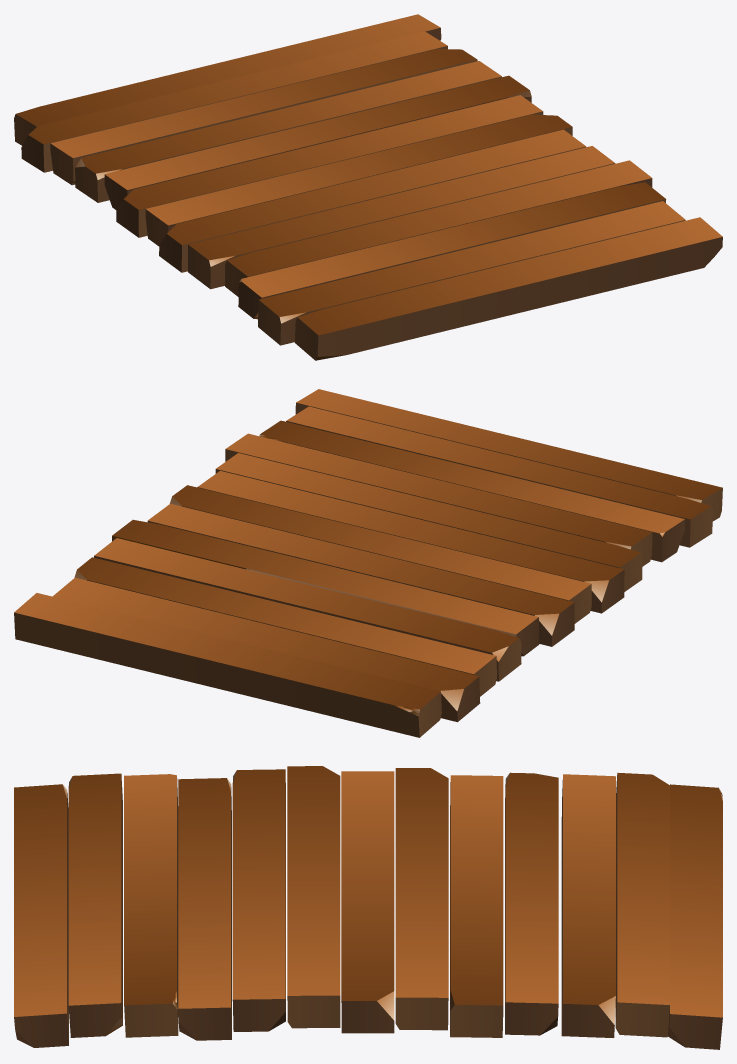
File: SM_HolzBalkenBroken.fbx
The picture shows the model from 3 angles, top to bottom: view 1: azimuth 30°, elevation 25°; view 2: azimuth 150°, elevation 25°; view 3: azimuth 270°, elevation 25°; orthographic projection. The views are drawn at different scales.
Parts seen in each view (by area): view 1: Cube.027, Cube.026, Cube.018, Cube.023, Cube.024, Cube.022, Cube.017, Cube.020, Cube.021, Cube.025, Cube.019, Cube.016 (+1 smaller); view 2: Cube.015, Cube.016, Cube.020, Cube.017, Cube.025, Cube.019, Cube.022, Cube.021, Cube.023, Cube.018, Cube.024, Cube.026 (+1 smaller); view 3: Cube.018, Cube.025, Cube.026, Cube.027, Cube.021, Cube.019, Cube.016, Cube.022, Cube.024, Cube.017, Cube.023, Cube.020 (+1 smaller).
Part boxes in pixels (x1,y1,x2,y2): Cube.027: (294, 217, 722, 360); Cube.026: (258, 201, 685, 345); Cube.018: (238, 182, 666, 319); Cube.023: (188, 146, 615, 289); Cube.024: (225, 160, 652, 296); Cube.022: (159, 129, 586, 272); Cube.017: (116, 95, 543, 237); Cube.020: (75, 61, 501, 202); Cube.021: (145, 114, 572, 246); Cube.025: (50, 49, 477, 185); Cube.019: (104, 75, 531, 210); Cube.016: (21, 31, 447, 172); Cube.015: (14, 593, 441, 737); Cube.016: (52, 577, 480, 722); Cube.020: (94, 538, 521, 681); Cube.017: (147, 503, 574, 646); Cube.025: (74, 557, 496, 696); Cube.019: (112, 519, 539, 656); Cube.022: (197, 470, 624, 613); Cube.021: (169, 485, 591, 623); Cube.023: (215, 453, 642, 591); Cube.018: (259, 420, 684, 562); Cube.024: (225, 433, 652, 566); Cube.026: (286, 406, 712, 547); Cube.018: (124, 774, 178, 1037); Cube.025: (561, 774, 615, 1037); Cube.026: (68, 773, 122, 1037); Cube.027: (14, 784, 68, 1047); Cube.021: (341, 771, 394, 1033); Cube.019: (450, 775, 503, 1037); Cube.016: (615, 772, 669, 1037); Cube.022: (287, 766, 340, 1028); Cube.024: (178, 778, 231, 1040); Cube.017: (395, 768, 448, 1030); Cube.023: (232, 769, 285, 1031); Cube.020: (505, 772, 558, 1035).
Size of the model in its own units: 381 by 32.28 by 475.
